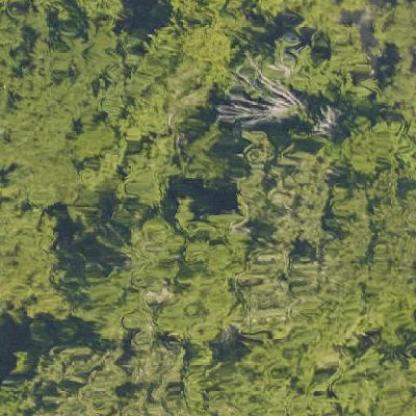tree-top: (129, 205, 246, 344), (229, 124, 332, 249), (0, 209, 71, 321), (329, 115, 415, 182)
